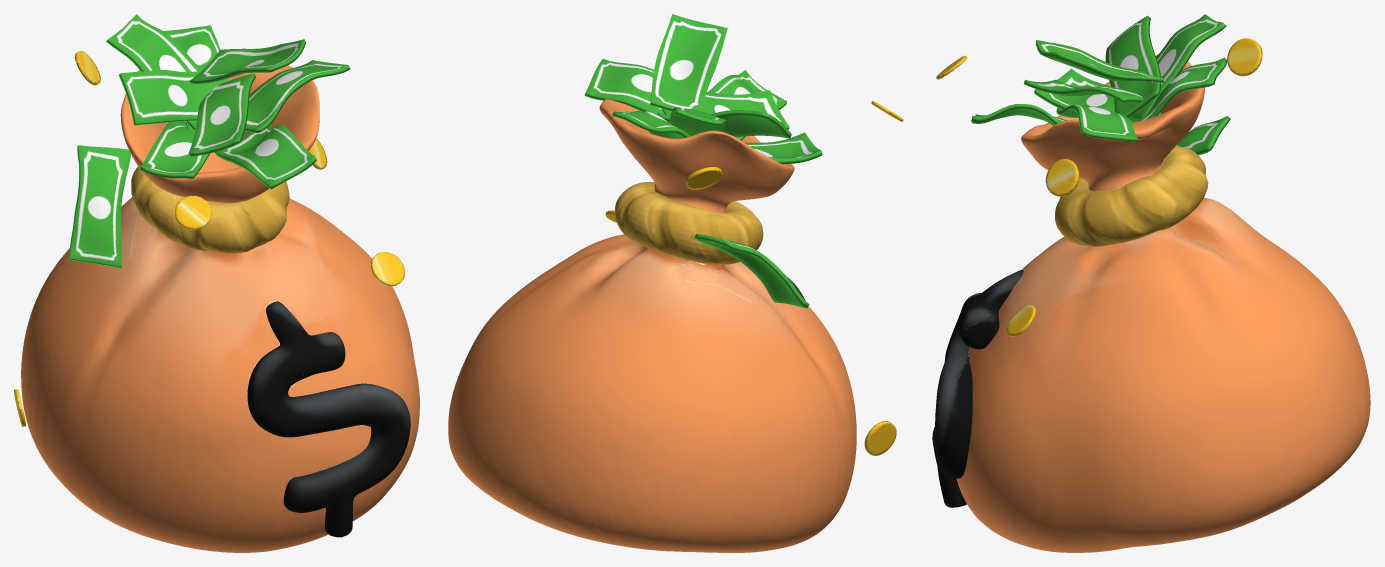
File: BolsaDinero.gltf
3 views of the same model, side by side, from view 1: azimuth 30°, elevation 25°; view 2: azimuth 150°, elevation 25°; view 3: azimuth 270°, elevation 25° (orthographic).
Visible parts, largest first — view 1: BOLSA_MONEY_0; view 2: BOLSA_MONEY_0; view 3: BOLSA_MONEY_0.
Boxes of the visible parts, x1,y1,x2,y2 form: BOLSA_MONEY_0: (14, 14, 419, 552); BOLSA_MONEY_0: (448, 14, 903, 552); BOLSA_MONEY_0: (932, 14, 1370, 552).
Bounding box in the file's own units: 1.38 × 1.61 × 1.3.
5 materials, 5 textured.
